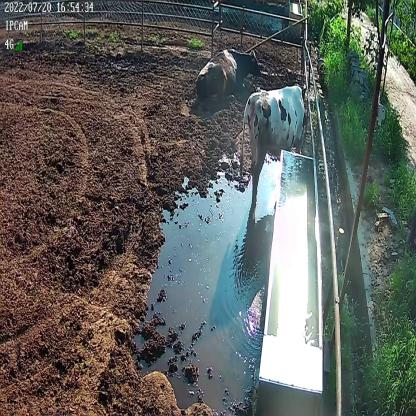cow: (238, 80, 307, 223), (193, 48, 264, 100)
